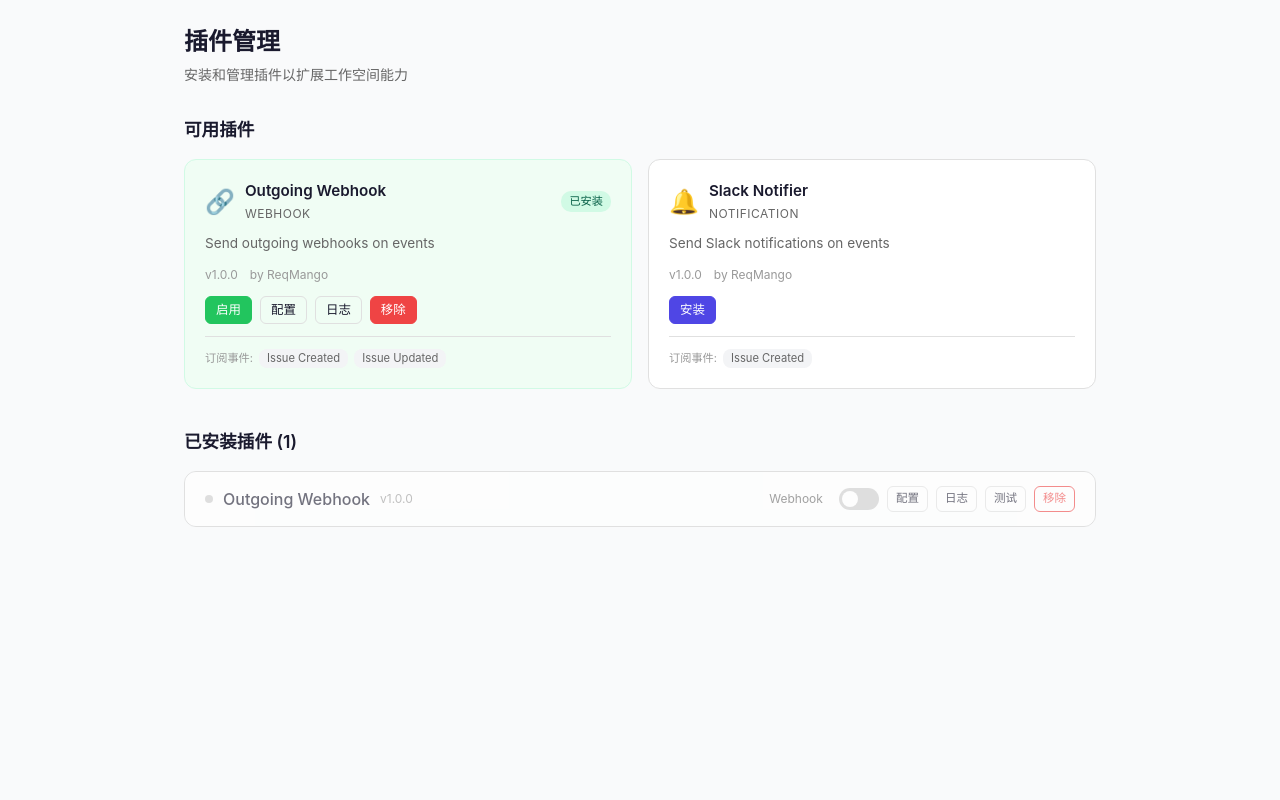
Test: Config modal › should open config modal on Config button click
Click the button with class "btn-outline" below "Send outgoing webhooks on events": [284, 310] box [260,296,307,324]
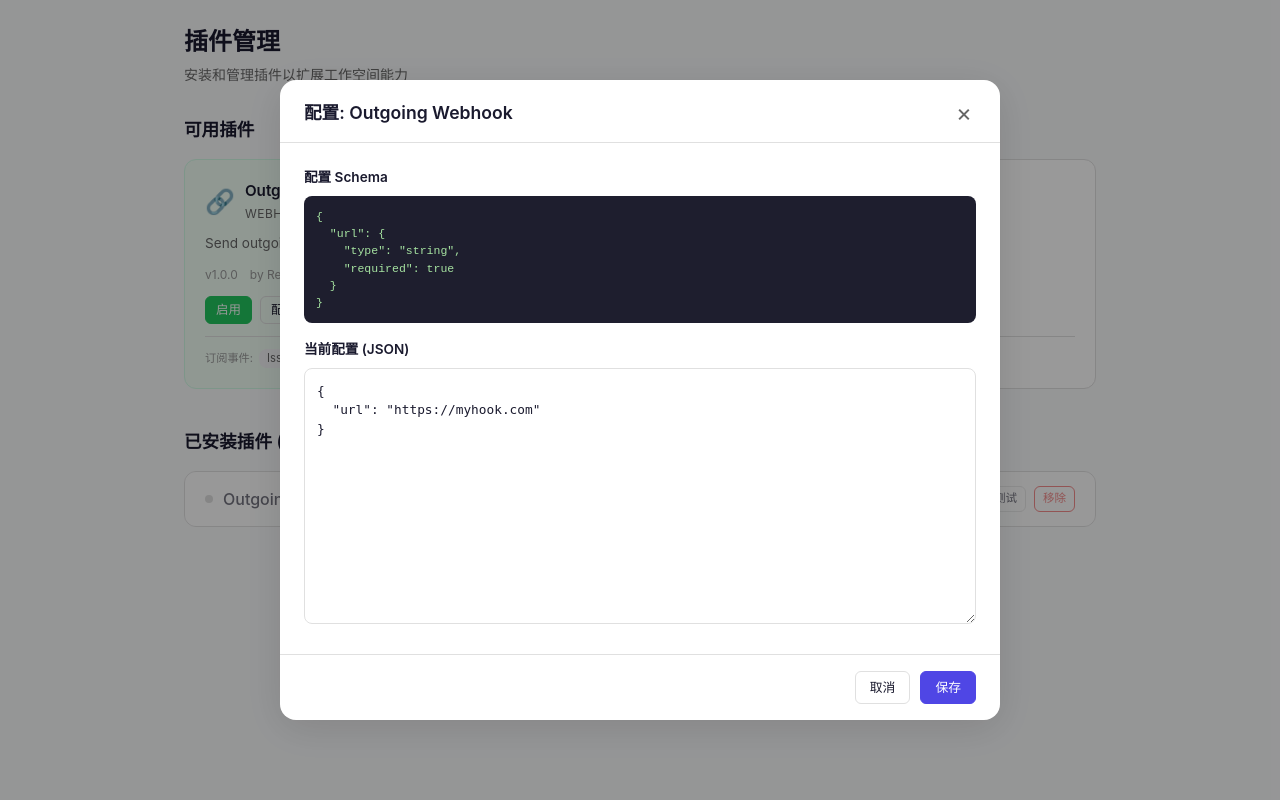
Expected: the element that starts with "配置: Outgoing Webhook" is shown, [280,80,1000,720]
Expected: the heading "配置: Outgoing Webhook" is shown, [304,100,513,126]
